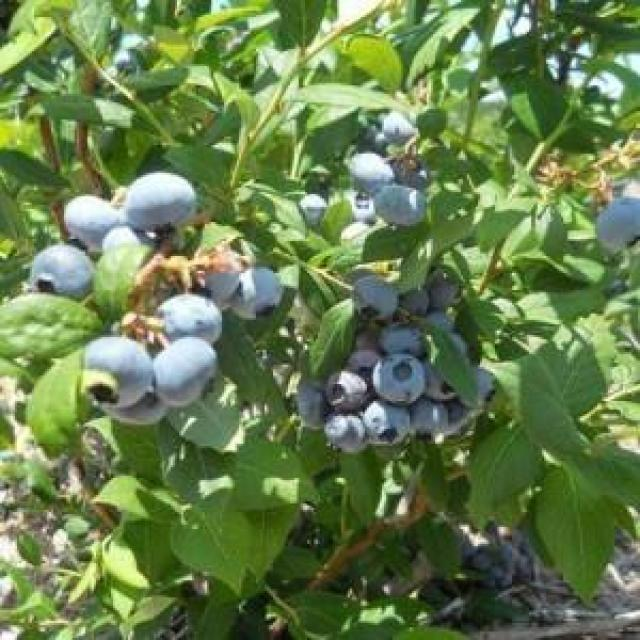BlueBerry - v1: (117, 160, 203, 241), (76, 324, 154, 412), (147, 331, 226, 414), (145, 284, 233, 354), (26, 241, 104, 309), (55, 188, 126, 252), (226, 254, 288, 324), (369, 343, 431, 408), (586, 187, 640, 260), (358, 393, 416, 450), (369, 179, 429, 233), (320, 405, 375, 459), (343, 269, 399, 320), (342, 143, 392, 192), (401, 401, 452, 448), (322, 364, 373, 410), (337, 339, 386, 382), (427, 260, 467, 312), (292, 188, 337, 230), (459, 361, 499, 401), (397, 277, 433, 320), (424, 365, 458, 405)
